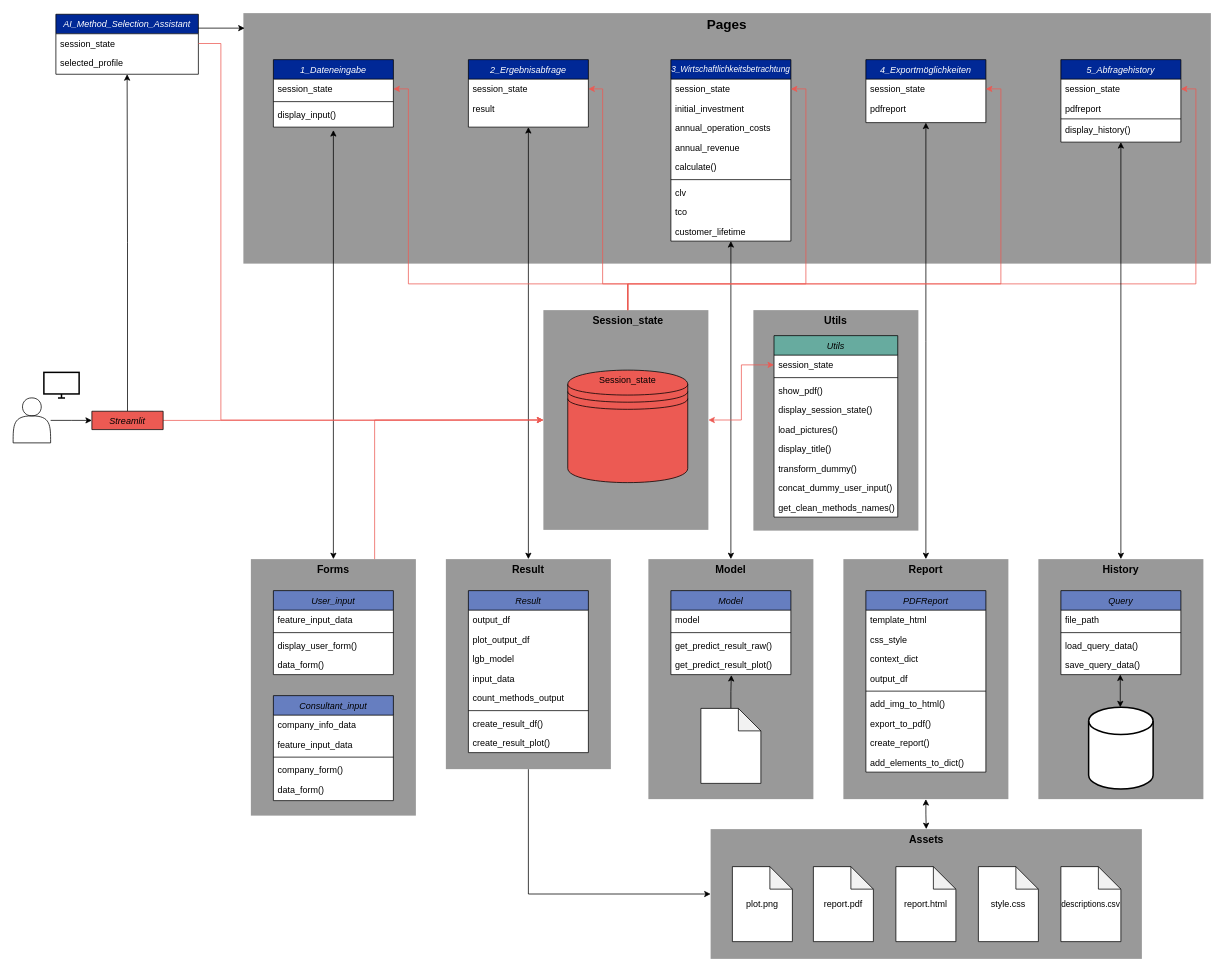
Some shapes in this 1224 by 971 pixel diagram are drawn without their labels. Here are the shapes that lost their labels. From the top down, the centre of each, then its label:
pixel 31 420: User
pixel 730 745: lgbc.pkl
pixel 1121 747: query_data
